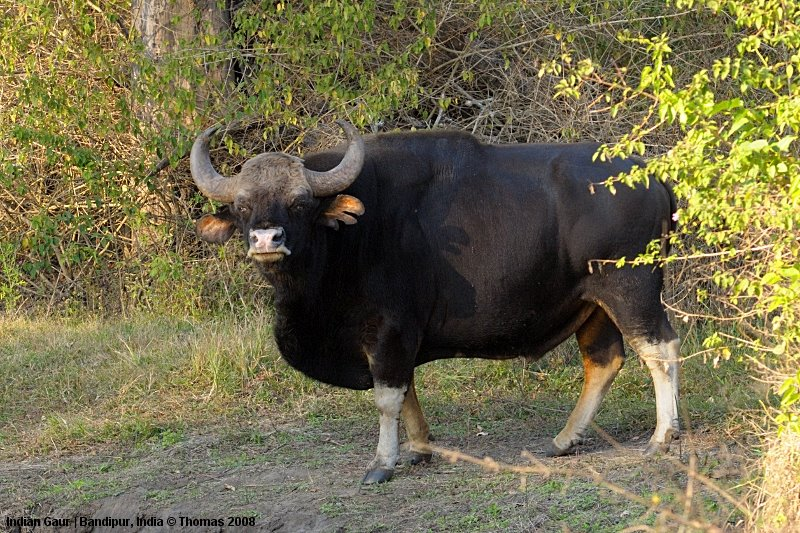bison: (181, 105, 686, 478)
